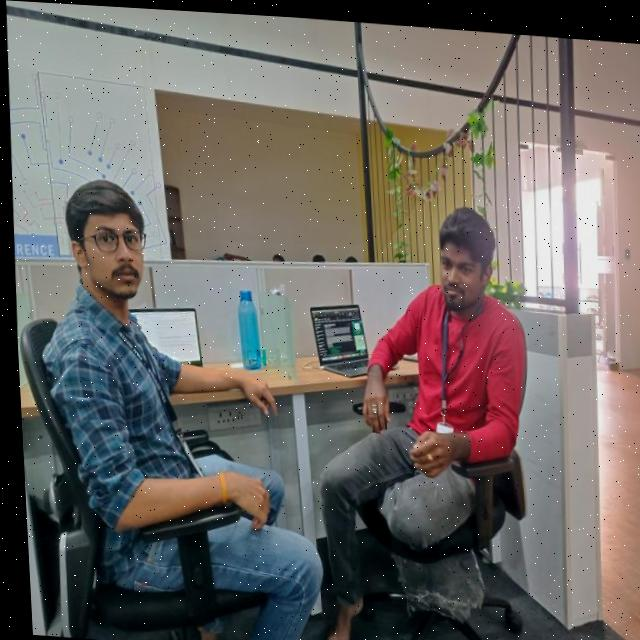id_card: (98, 316, 209, 483), (408, 292, 480, 451)
